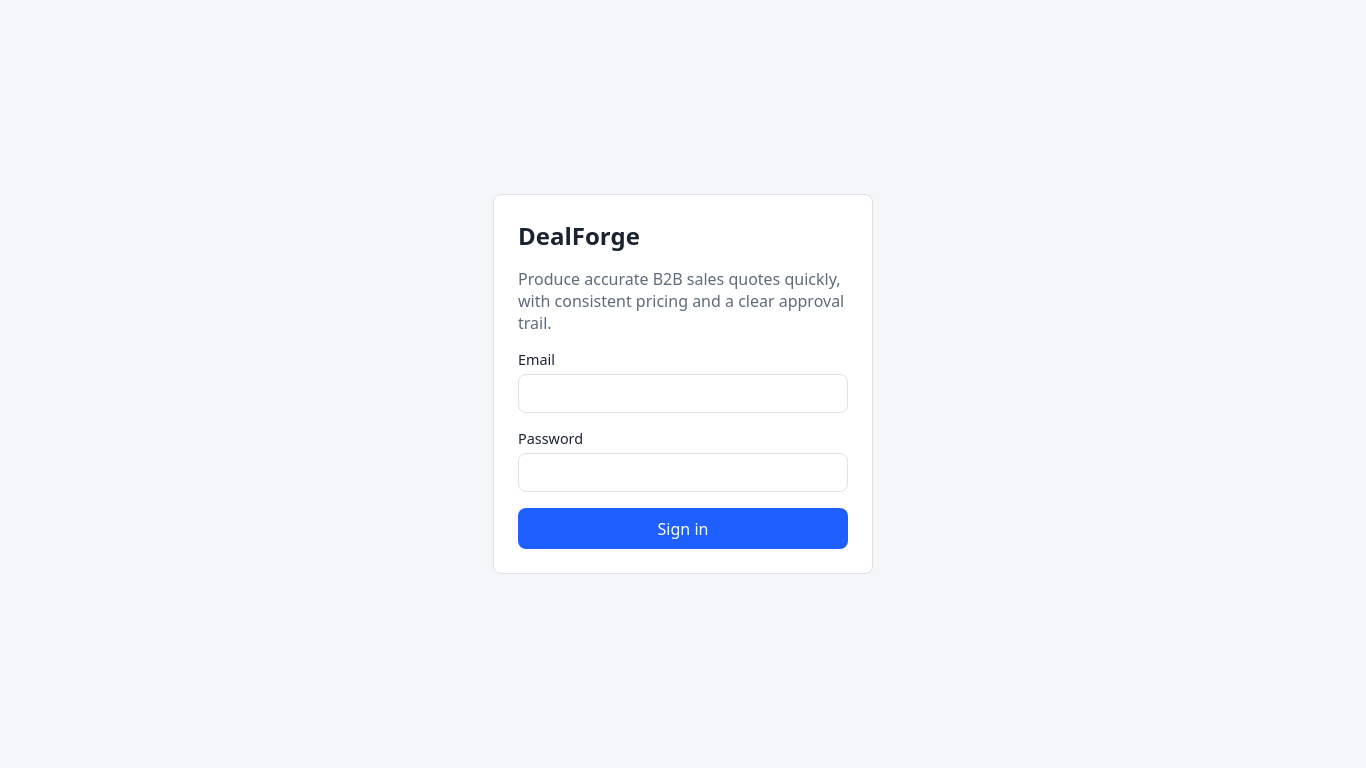
Test: App routing and authentication › sends anonymous users to login, signs in and lands on the dashboard
The image size is (1366, 768).
Type "rep@helix.example" into the field labelled "Email" at (683, 393), box [518,374,848,413]
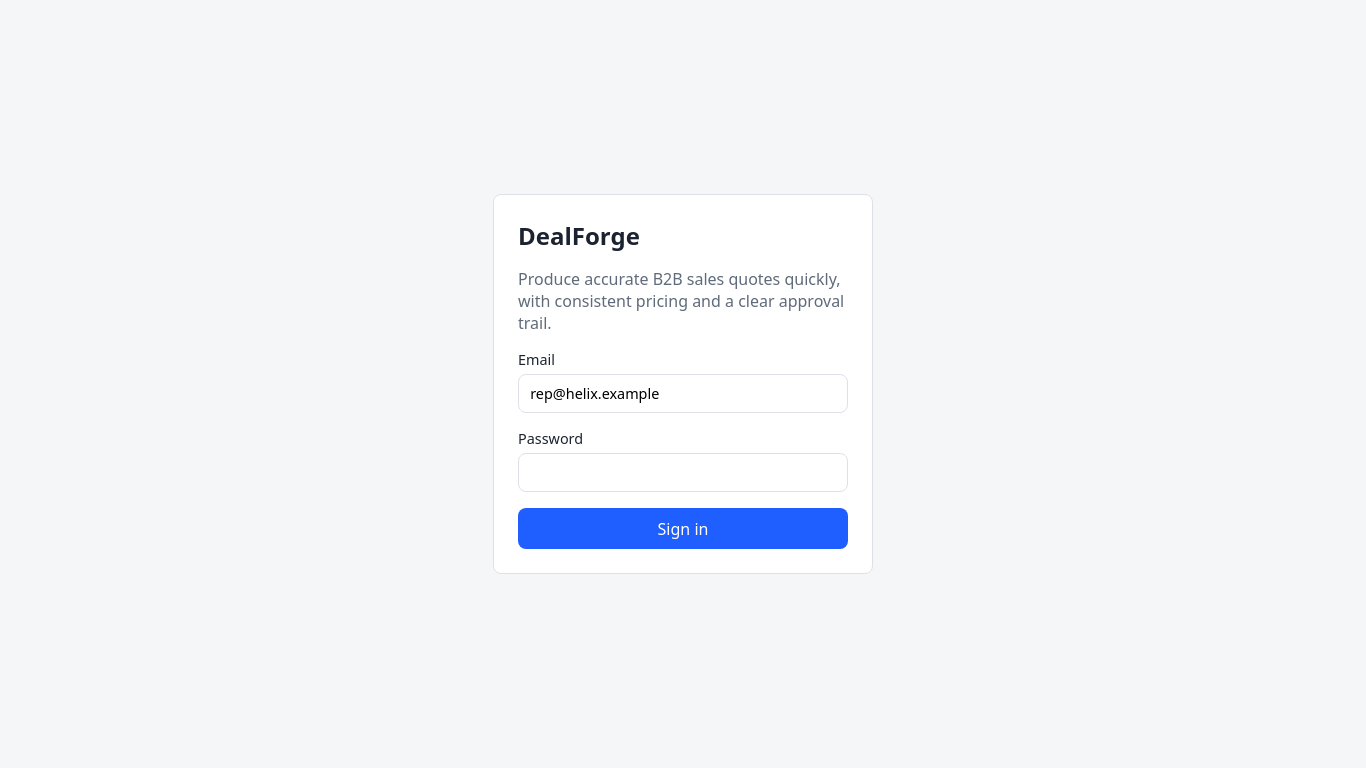
Type "DemoPassword!2026" into the password field labelled "Password" at (683, 473), box [518,453,848,492]
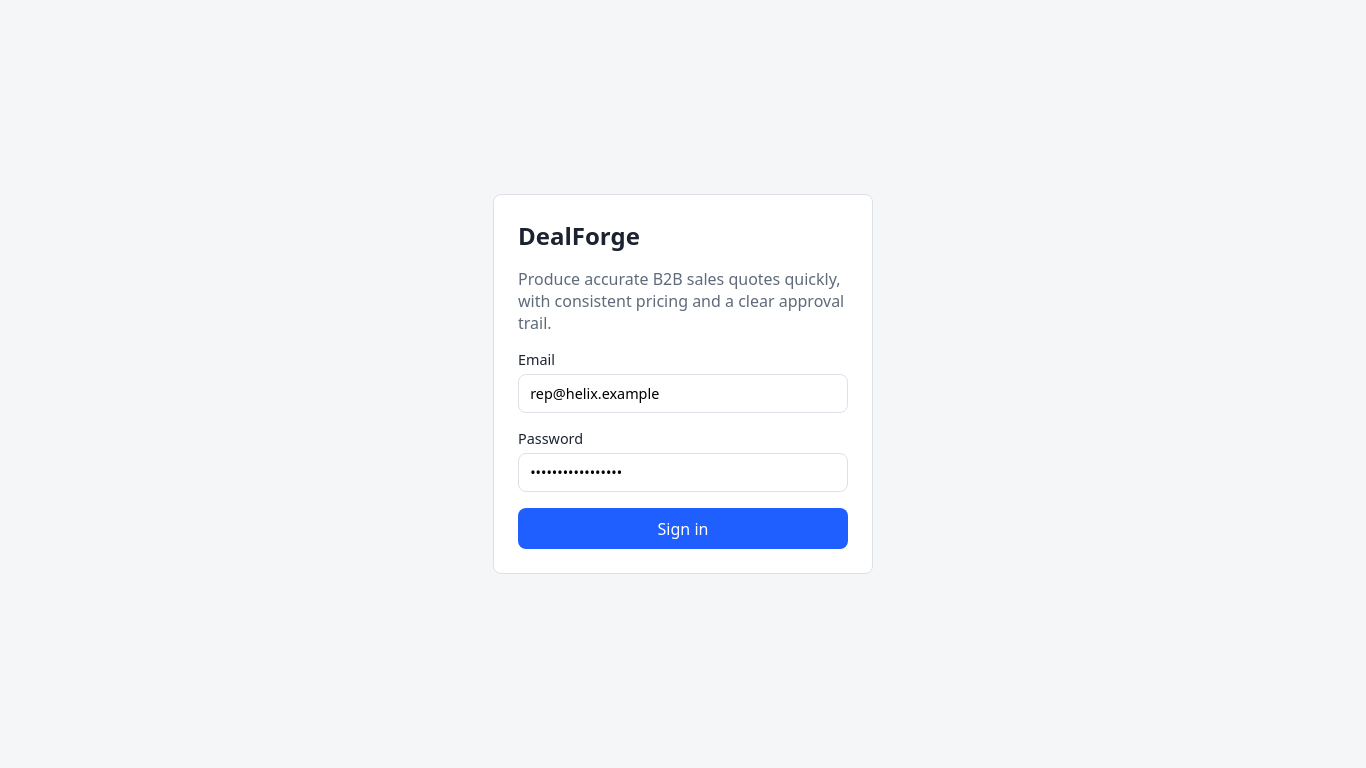
Click the button "Sign in" at (683, 529), box [518,508,848,550]
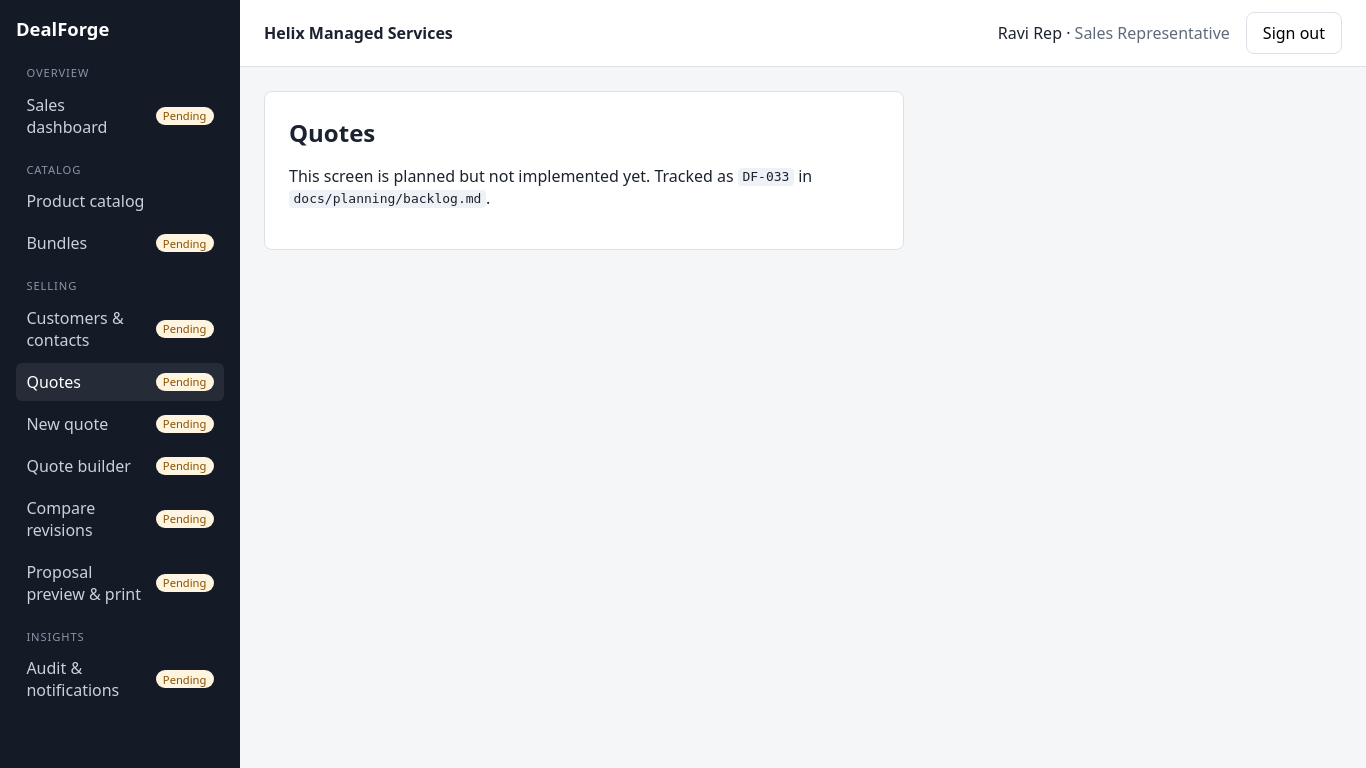
Now the heading "Quotes" is shown, box [289,116,375,149]
Now the text "DF-033" is shown, box [738,168,794,186]
